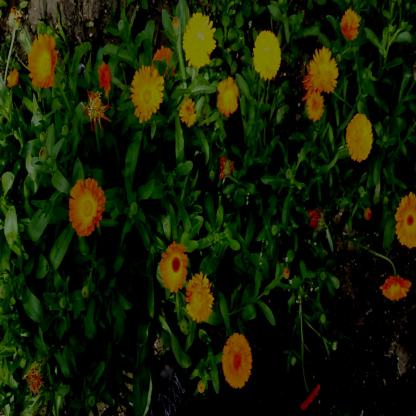marigold: (68, 177, 102, 236), (130, 66, 162, 116), (223, 334, 253, 387), (184, 16, 216, 65), (30, 37, 59, 91), (161, 243, 187, 295), (150, 44, 179, 90), (255, 29, 281, 80), (309, 48, 338, 92), (186, 274, 212, 319), (347, 114, 372, 159), (395, 193, 415, 247), (380, 275, 410, 304), (218, 77, 238, 116), (178, 91, 198, 129), (304, 90, 324, 123), (342, 12, 361, 38)
